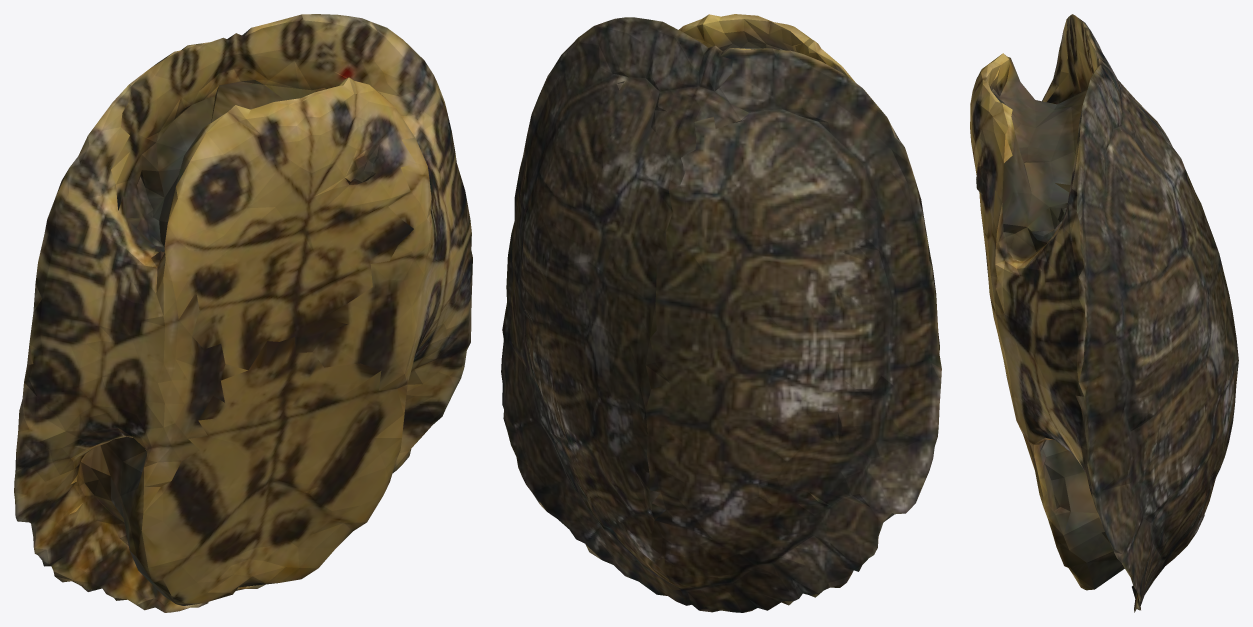
Rendered from turtle_shell.glb.
3 views of the same model, side by side, from view 1: azimuth 30°, elevation 25°; view 2: azimuth 150°, elevation 25°; view 3: azimuth 270°, elevation 25° (orthographic). The views are drawn at different scales.
Visible parts, largest first — view 1: turtle_shell_(Testudines)_592.14; view 2: turtle_shell_(Testudines)_592.14; view 3: turtle_shell_(Testudines)_592.14.
Boxes of the visible parts, x1,y1,x2,y2 form: turtle_shell_(Testudines)_592.14: (14, 14, 472, 612); turtle_shell_(Testudines)_592.14: (501, 14, 941, 612); turtle_shell_(Testudines)_592.14: (970, 14, 1238, 612).
Size of the model in its own units: 113 by 138 by 62.42.
1 material, 1 textured.
